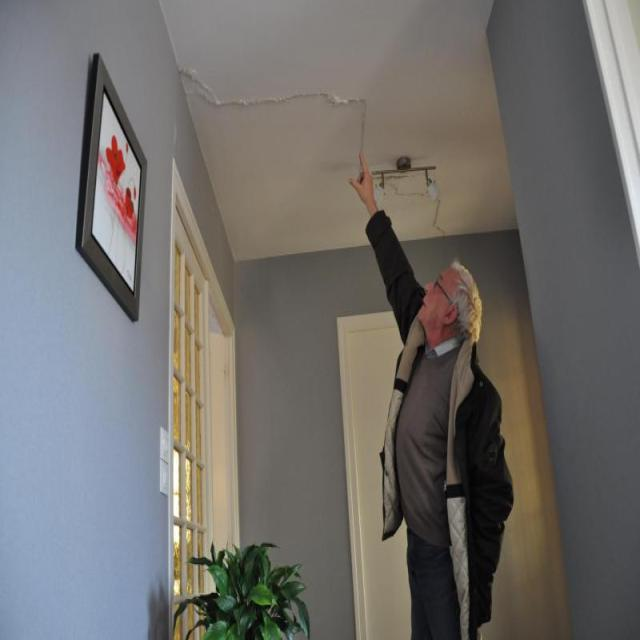crack: (179, 64, 369, 153), (431, 176, 445, 232), (389, 178, 427, 197)
